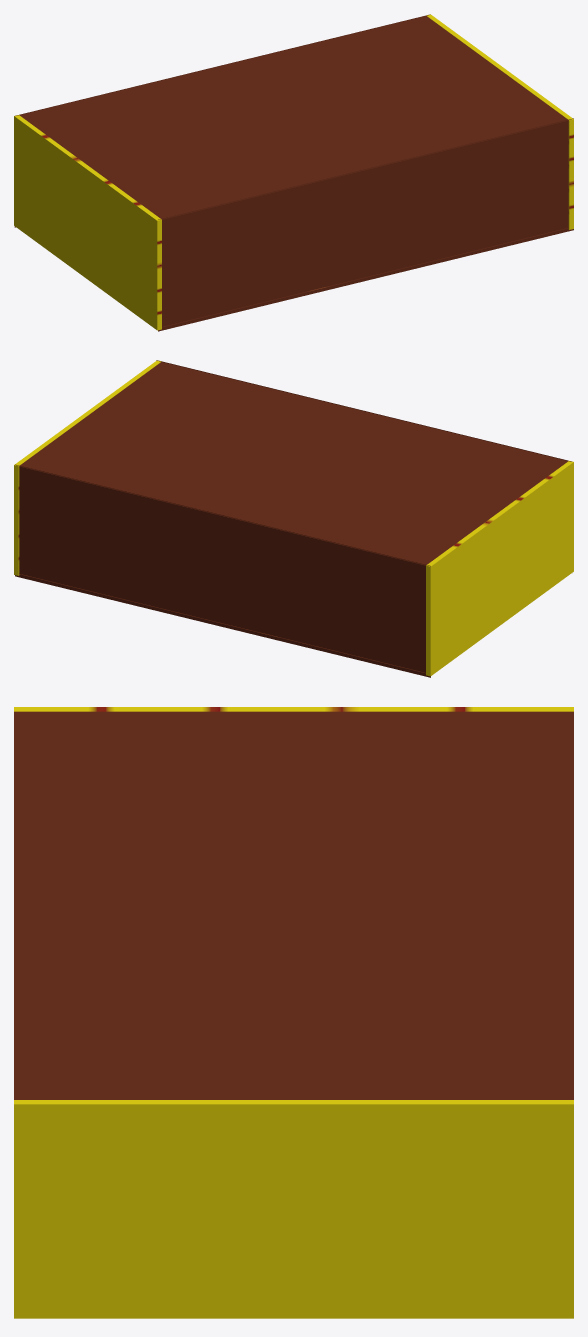
Rendered from hallway-cabin.fbx.
The picture shows the model from 3 angles, top to bottom: view 1: azimuth 30°, elevation 25°; view 2: azimuth 150°, elevation 25°; view 3: azimuth 270°, elevation 25°; orthographic projection. The views are drawn at different scales.
Parts seen in each view (by area): view 1: floor.001, doorwall.001, wall, wall.001, floor, doorwall; view 2: floor.001, doorwall, wall, wall.001, doorwall.001, floor; view 3: floor.001, wall.001, wall.
Part boxes in pixels (x1=…): floor.001: x1=19, y1=16, x2=568, y2=219; doorwall.001: x1=158, y1=118, x2=573, y2=331; wall: x1=14, y1=115, x2=161, y2=330; wall.001: x1=426, y1=14, x2=573, y2=229; floor: x1=162, y1=227, x2=568, y2=327; doorwall: x1=14, y1=14, x2=430, y2=227; floor.001: x1=19, y1=362, x2=568, y2=565; doorwall: x1=15, y1=464, x2=430, y2=677; wall: x1=426, y1=460, x2=573, y2=676; wall.001: x1=14, y1=360, x2=161, y2=575; doorwall.001: x1=156, y1=360, x2=571, y2=461; floor: x1=19, y1=573, x2=425, y2=673; floor.001: x1=14, y1=711, x2=573, y2=1099; wall.001: x1=14, y1=1100, x2=573, y2=1318; wall: x1=14, y1=707, x2=573, y2=711.
Size of the model in its own units: 6510 by 1668 by 3874.
Materials: 3 (3 with a texture image).
